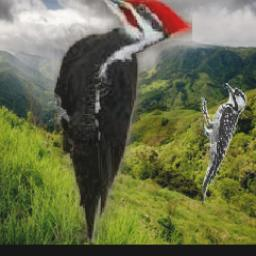Woodpecker: (54, 0, 192, 244), (201, 84, 248, 205)
